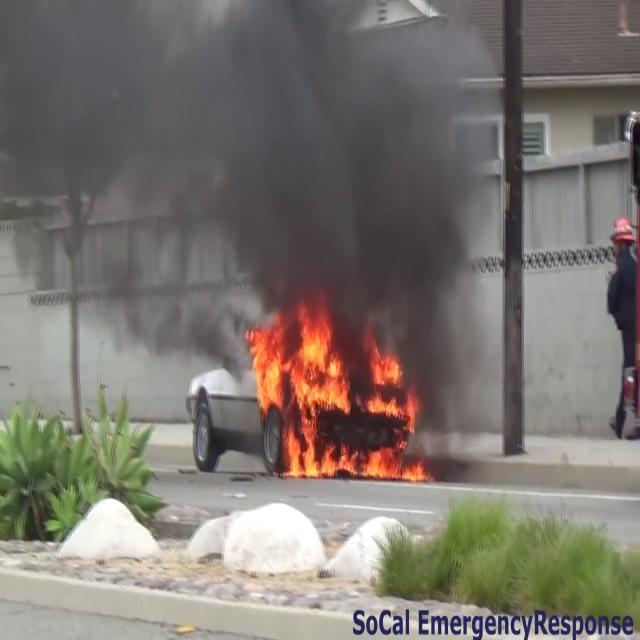Fire: (242, 306, 436, 480)
Smoke: (1, 0, 505, 361)
